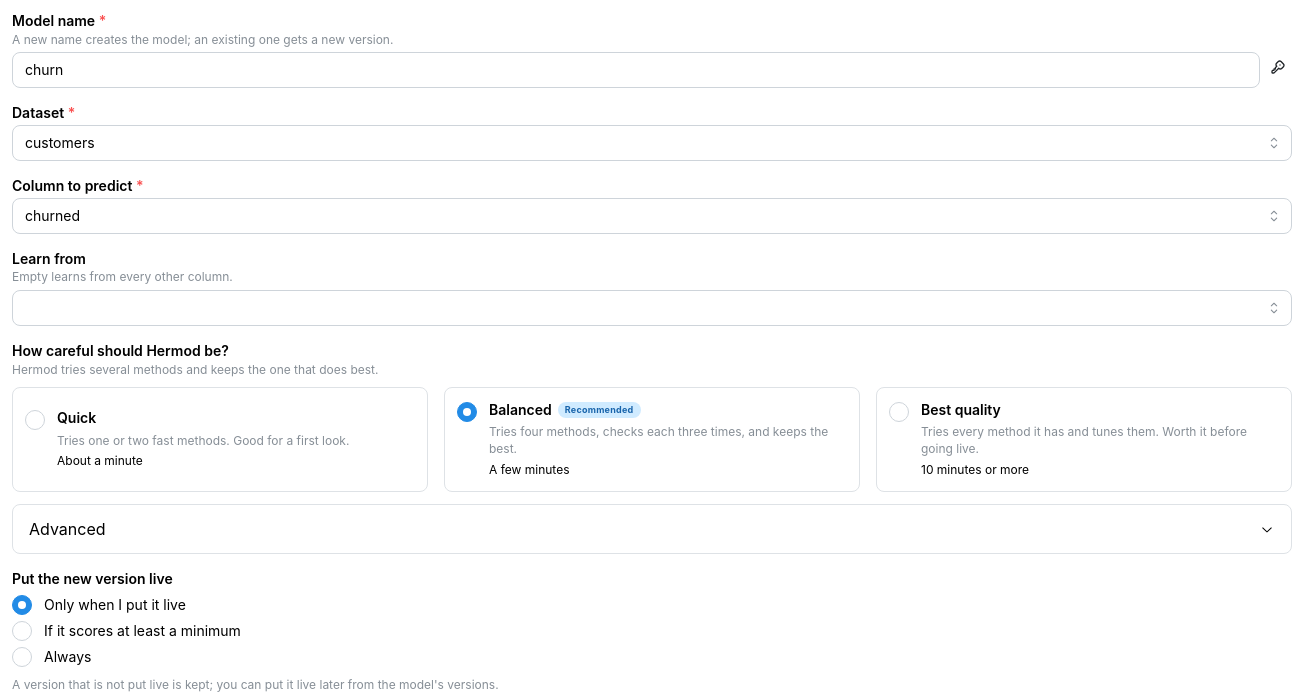
Train Model node › offers the vhost scripts and the GPU when the server does, and saves them
Click the button "Advanced": (67, 529) [13,505,1291,553]
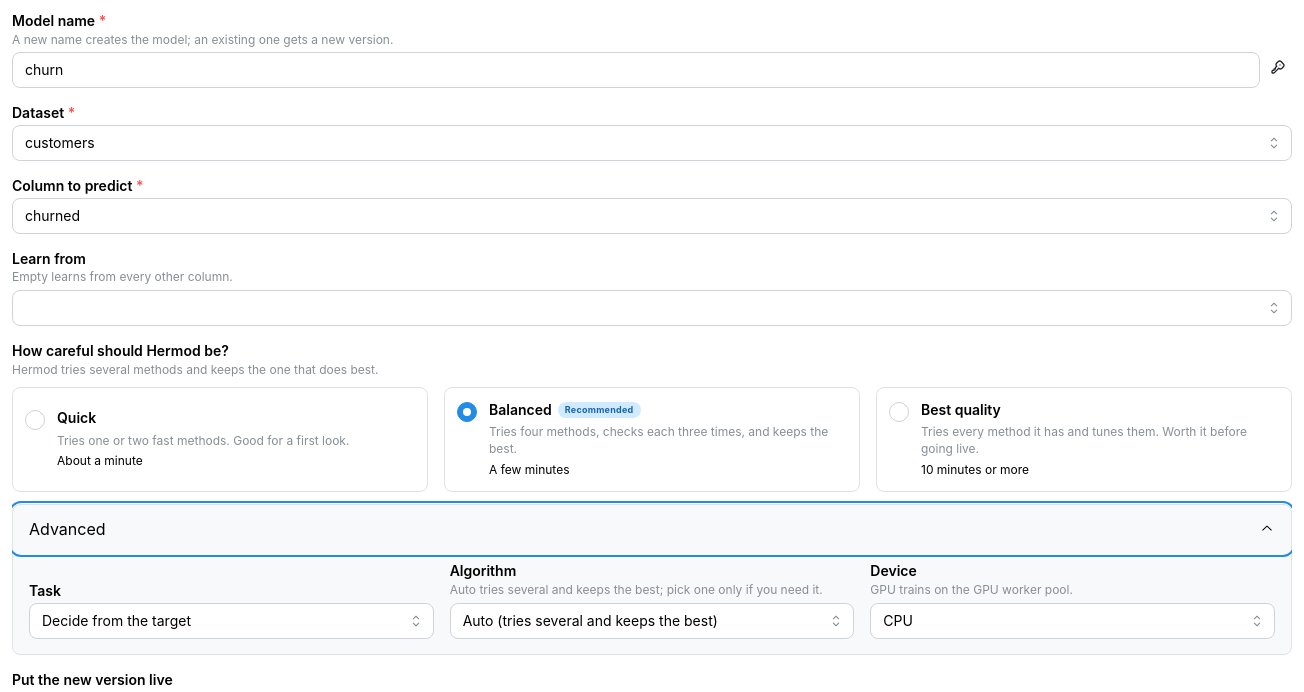
Expected: the text "Device" is shown, [870,560,917,582]
Click the dropdown labelled "Device": (1073, 621) [870,603,1275,639]
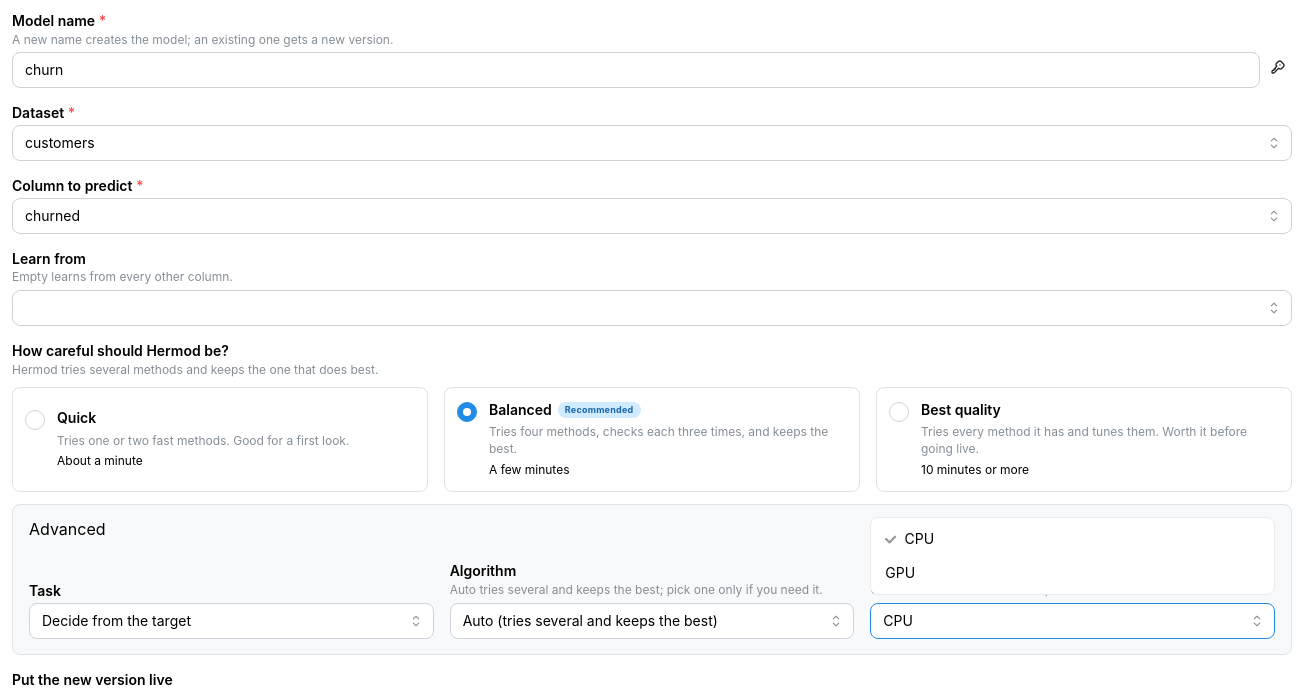
Click the option "GPU": (900, 572) [885,564,915,581]
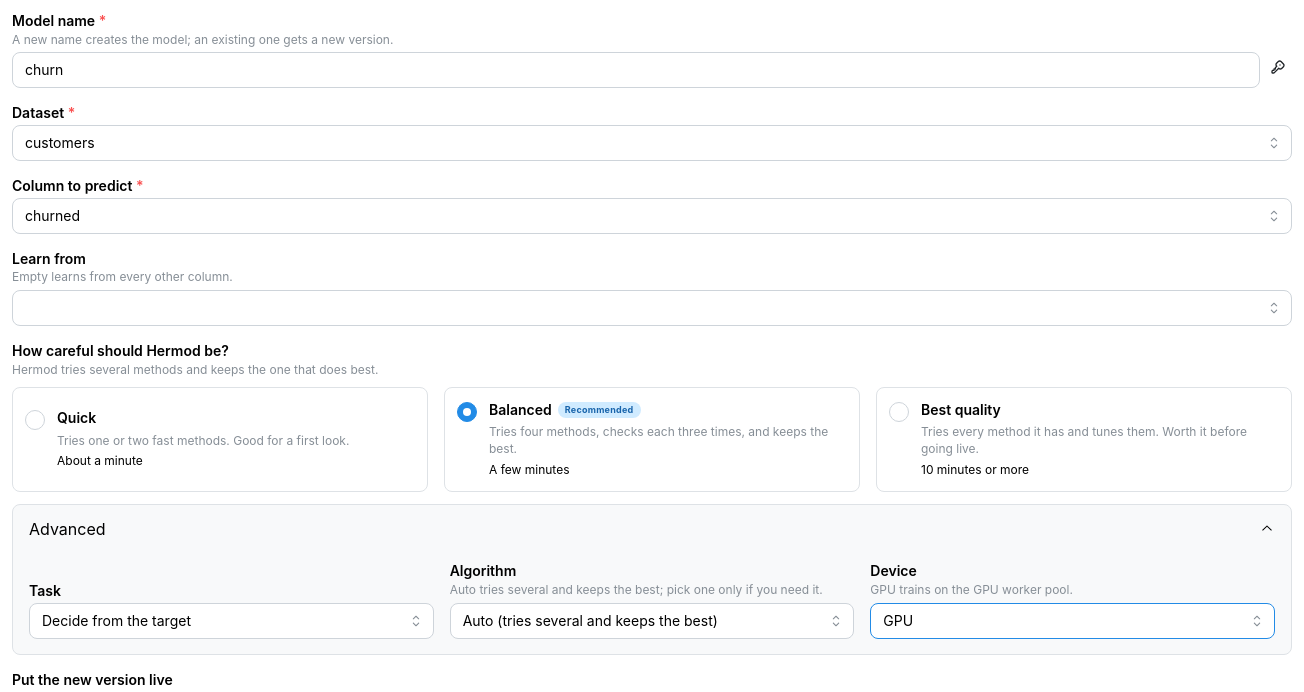
Click the dropdown labelled "Algorithm": (652, 621) [450,603,854,639]
(page scrolled)
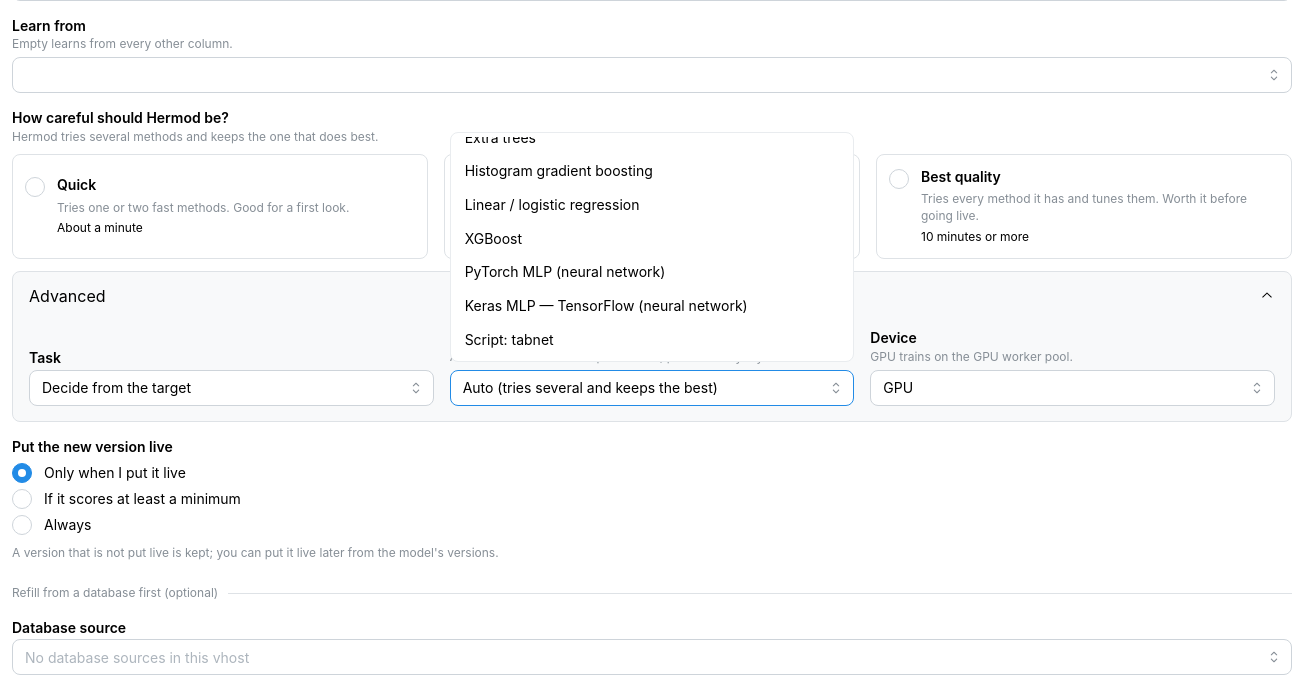
Click the option "Script: tabnet": (509, 339) [465,331,554,348]
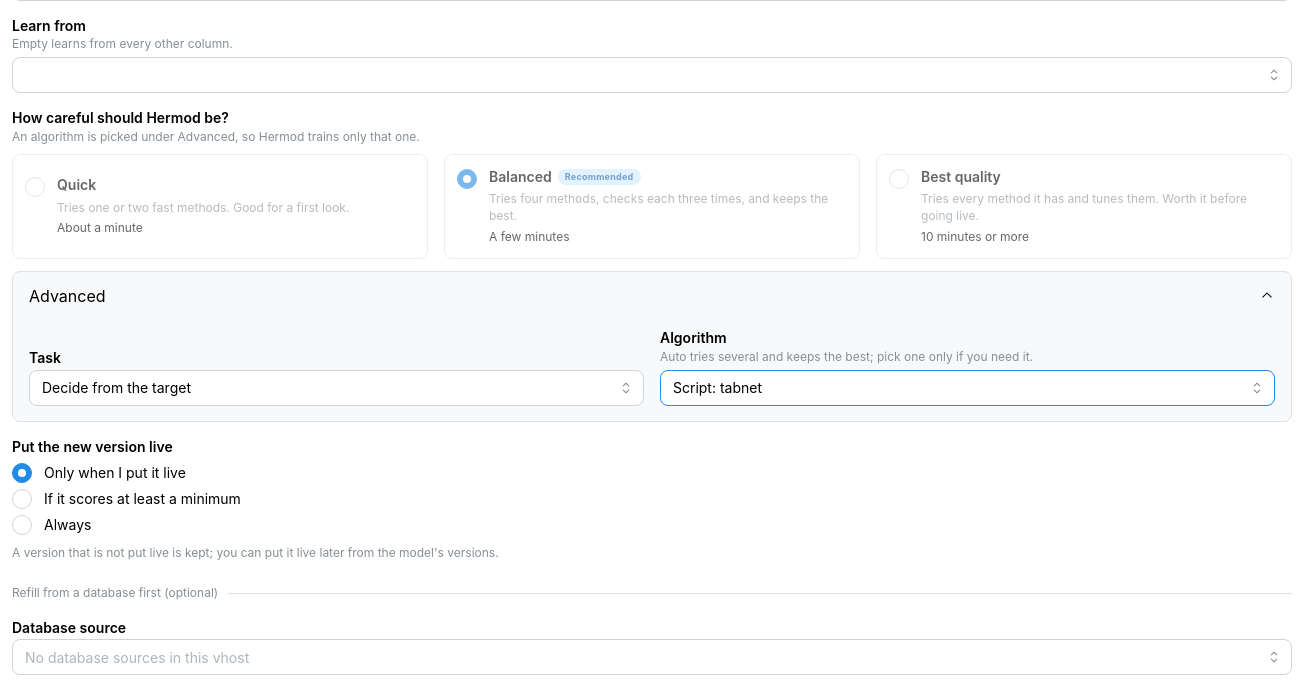
Expected: the label "Device" is gone
